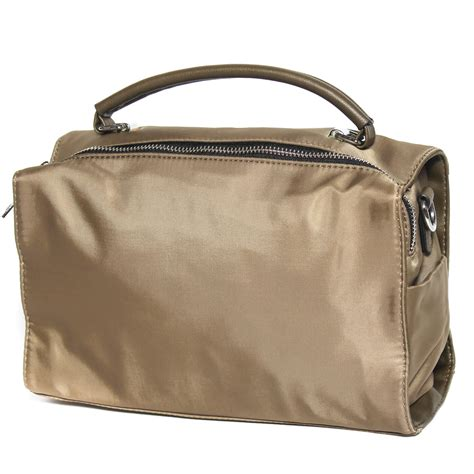nylon: (12, 63, 456, 438)
